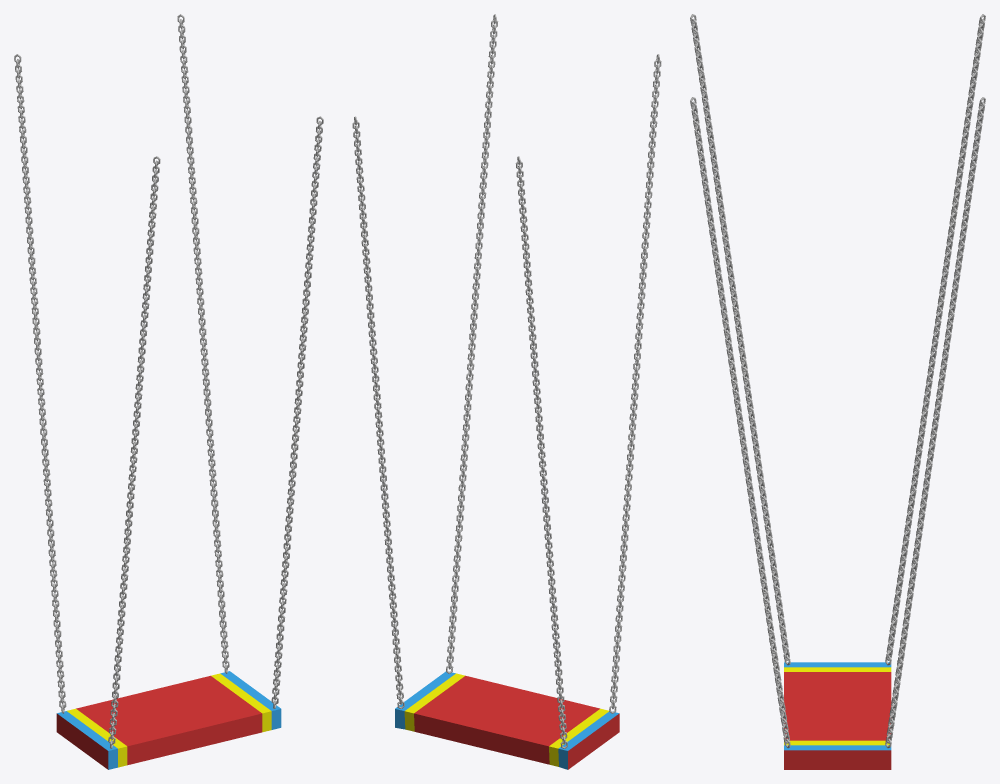
File: EVPlataformSmall.fbx
3 views of the same model, side by side, from view 1: azimuth 30°, elevation 25°; view 2: azimuth 150°, elevation 25°; view 3: azimuth 270°, elevation 25° (orthographic). The views are drawn at different scales.
Parts seen in each view (by area): view 1: Cube.010, Torus.005, Torus.007, Torus.006, Torus.004; view 2: Cube.010, Torus.004, Torus.006, Torus.005, Torus.007; view 3: Cube.010, Torus.004, Torus.007, Torus.005, Torus.006.
Part boxes in pixels (bbox=[...]): Cube.010: bbox=[56, 671, 281, 769]; Torus.005: bbox=[177, 14, 229, 673]; Torus.007: bbox=[14, 54, 66, 713]; Torus.006: bbox=[108, 156, 160, 748]; Torus.004: bbox=[271, 116, 323, 708]; Cube.010: bbox=[395, 671, 619, 769]; Torus.004: bbox=[446, 14, 498, 673]; Torus.006: bbox=[609, 54, 661, 713]; Torus.005: bbox=[352, 116, 404, 708]; Torus.007: bbox=[515, 156, 567, 748]; Cube.010: bbox=[784, 662, 891, 769]; Torus.004: bbox=[690, 97, 790, 748]; Torus.007: bbox=[885, 14, 985, 665]; Torus.005: bbox=[885, 97, 985, 748]; Torus.006: bbox=[690, 14, 790, 665].
Size of the model in its own units: 1665 by 5926 by 2369.
1 material, 1 textured.
